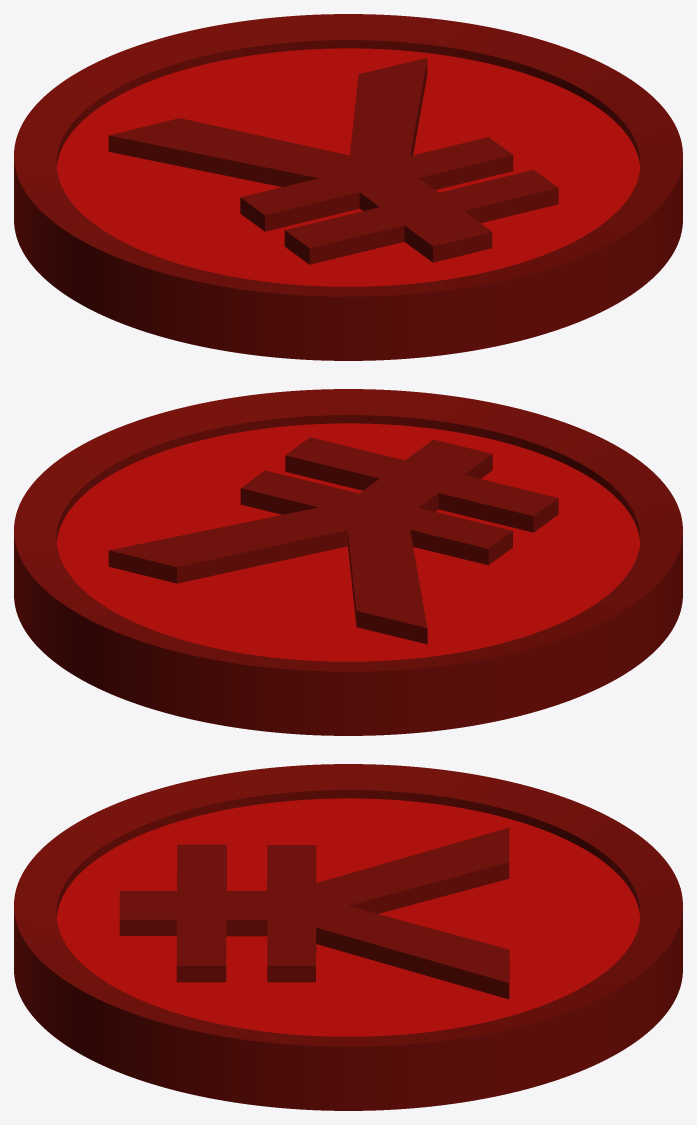
File: Yen_token (1).fbx
The picture shows the model from 3 angles, top to bottom: view 1: azimuth 30°, elevation 25°; view 2: azimuth 150°, elevation 25°; view 3: azimuth 270°, elevation 25°; orthographic projection.
Visible parts, largest first — view 1: Yen token; view 2: Yen token; view 3: Yen token.
Boxes of the visible parts, box(x1,y1,x2,y2) form: Yen token: box(14, 14, 682, 360); Yen token: box(14, 389, 682, 735); Yen token: box(14, 764, 682, 1110).
Bounding box in the file's own units: 200 × 21.18 × 200.
